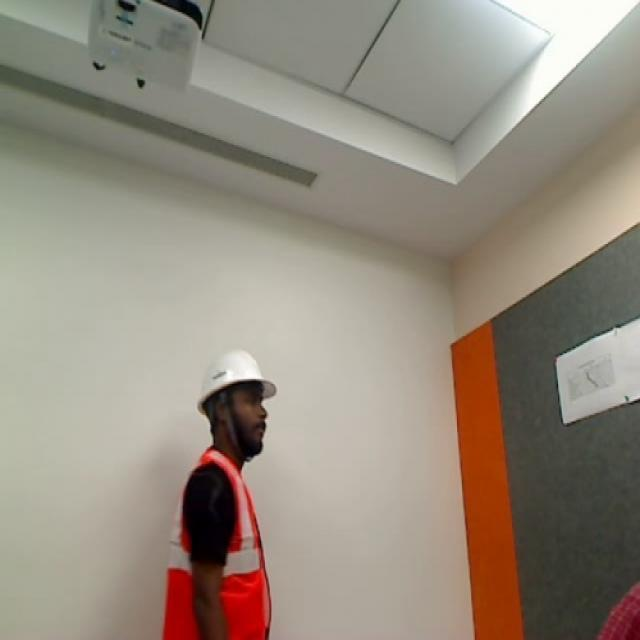safety_helmet: (168, 449, 275, 640)
